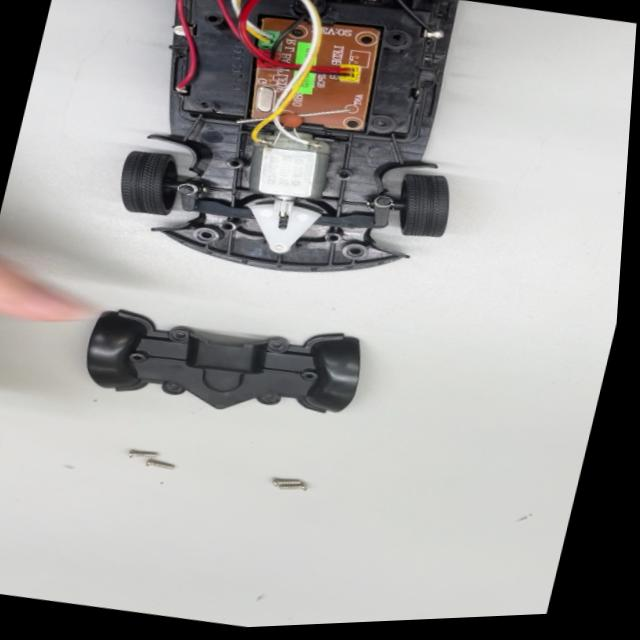motor: (226, 126, 346, 233)
motor_cover: (64, 286, 378, 451)
